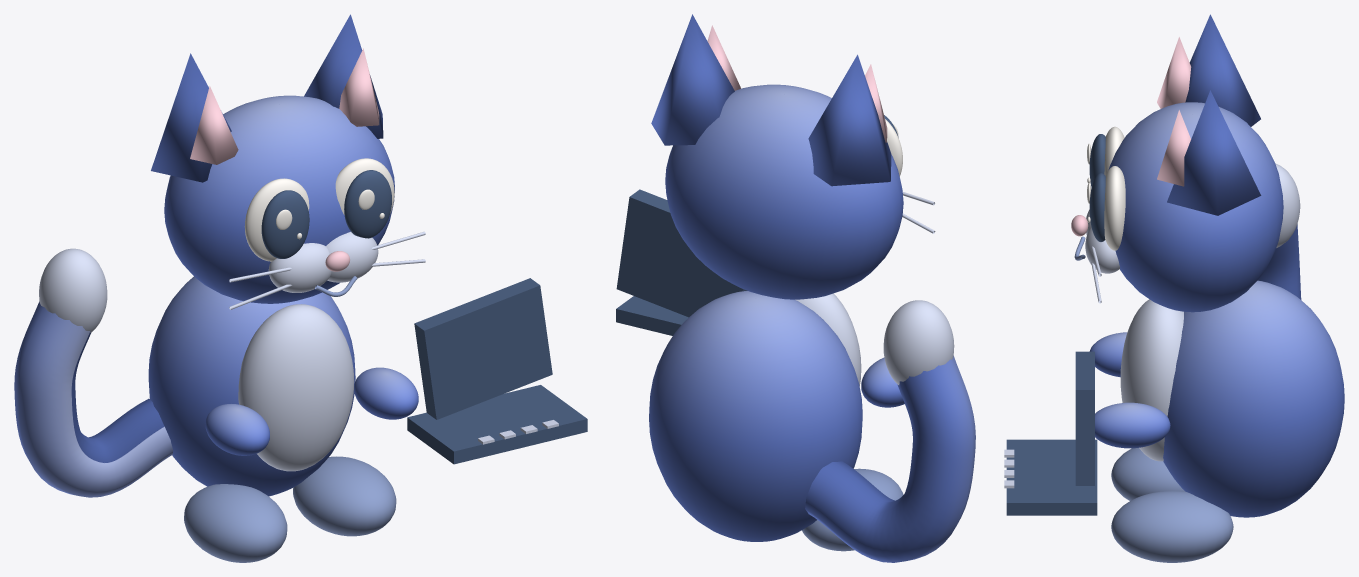
Rendered from product-frontend-developer.glb.
3 renders of one model, left to right at view 1: azimuth 30°, elevation 25°; view 2: azimuth 150°, elevation 25°; view 3: azimuth 270°, elevation 25°, orthographic. The views are drawn at different scales.
Parts seen in each view (by area): view 1: Rounded cat head, Seated cat body, Curled cat tail, Cat bib, Sculpted display panel, Laptop keyboard, Grounded foot, Grounded foot.001, Tail tuft, Cat ear, Cat ear.001, Posed paw.001 (+9 smaller); view 2: Seated cat body, Rounded cat head, Curled cat tail, Sculpted display panel, Cat ear, Cat ear.001, Tail tuft, Cat bib, Laptop keyboard, Grounded foot, Posed paw, Cat inner ear.001 (+2 smaller); view 3: Seated cat body, Rounded cat head, Grounded foot.001, Laptop keyboard, Cat ear.001, Cat bib, Cat ear, Posed paw.001, Sculpted display panel, Grounded foot, Curled cat tail, Sclera 1 (+8 smaller).
Boxes of the visible parts, bbox=[...] form: Rounded cat head: bbox=[164, 95, 394, 303]; Seated cat body: bbox=[148, 276, 355, 496]; Curled cat tail: bbox=[14, 301, 173, 497]; Cat bib: bbox=[238, 304, 354, 471]; Sculpted display panel: bbox=[414, 278, 552, 419]; Laptop keyboard: bbox=[407, 385, 587, 464]; Grounded foot: bbox=[184, 484, 287, 562]; Grounded foot.001: bbox=[293, 456, 396, 536]; Tail tuft: bbox=[39, 248, 107, 332]; Cat ear: bbox=[151, 53, 231, 182]; Cat ear.001: bbox=[304, 14, 383, 138]; Posed paw.001: bbox=[354, 367, 418, 419]; Seated cat body: bbox=[649, 291, 862, 541]; Rounded cat head: bbox=[665, 84, 903, 299]; Curled cat tail: bbox=[805, 356, 975, 562]; Sculpted display panel: bbox=[616, 189, 747, 317]; Cat ear: bbox=[808, 54, 891, 186]; Cat ear.001: bbox=[651, 14, 734, 145]; Tail tuft: bbox=[883, 300, 954, 384]; Cat bib: bbox=[795, 293, 861, 385]; Laptop keyboard: bbox=[616, 296, 688, 335]; Grounded foot: bbox=[802, 468, 903, 551]; Posed paw: bbox=[861, 357, 904, 407]; Cat inner ear.001: bbox=[707, 25, 740, 90]; Seated cat body: bbox=[1163, 280, 1344, 517]; Rounded cat head: bbox=[1108, 102, 1283, 312]; Grounded foot.001: bbox=[1111, 491, 1233, 562]; Laptop keyboard: bbox=[1006, 439, 1097, 515]; Cat ear.001: bbox=[1167, 90, 1261, 215]; Cat bib: bbox=[1120, 299, 1183, 461]; Cat ear: bbox=[1185, 14, 1260, 126]; Posed paw.001: bbox=[1095, 402, 1170, 448]; Sculpted display panel: bbox=[1075, 351, 1094, 485]; Grounded foot: bbox=[1111, 448, 1185, 500]; Curled cat tail: bbox=[1258, 224, 1301, 299]; Sclera 1: bbox=[1104, 166, 1125, 250].
Size of the model in its own units: 2.63 by 2.85 by 1.84.
Materials: 6 (1 with a texture image).
